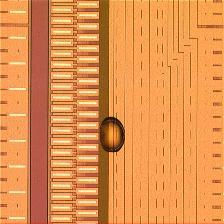PARTICLE: (97, 116, 129, 155)
